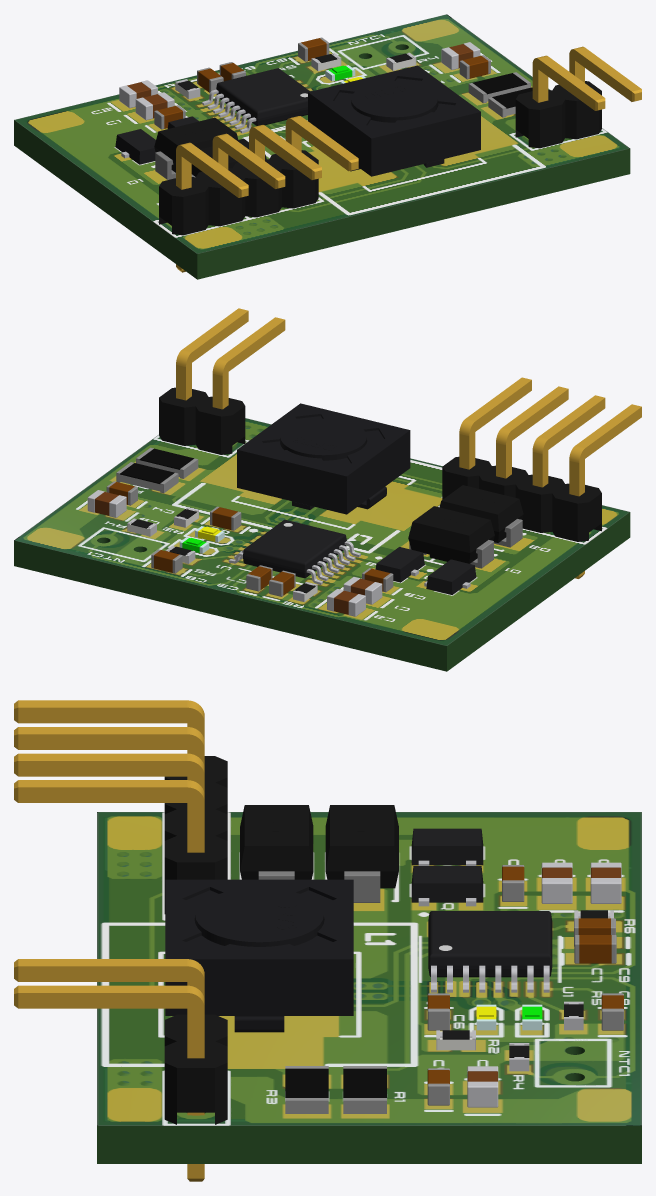
Rendered from eml02.glb.
The picture shows the model from 3 angles, top to bottom: view 1: azimuth 30°, elevation 25°; view 2: azimuth 150°, elevation 25°; view 3: azimuth 270°, elevation 25°; orthographic projection. The views are drawn at different scales.
Visible parts, largest first — view 1: Board:Open CASCADE STEP translator 7.5 1.1.1, L1:Cooper Bussman DR73 Series Inductor, J1:PLS-1R (×2), J2:PLS-1R (×2), J3:PLS-1R (×2), U1:, D1:Littelfuse SMAJ6.0A1, Q1:, R1:Mark, D1:Littelfuse SMAJ6.0A 2, C4:Open CASCADE STEP translator 6.8 3.2.1; view 2: Board:Open CASCADE STEP translator 7.5 1.1.1, L1:Cooper Bussman DR73 Series Inductor, J2:PLS-1R (×2), J1:PLS-1R (×2), J3:PLS-1R (×2), U1:, D1:Littelfuse SMAJ6.0A1, D2:Littelfuse SMAJ6.0A1, Q1:, Q2:, R3:Mark, R1:Mark; view 3: Board:Open CASCADE STEP translator 7.5 1.1.1, L1:Cooper Bussman DR73 Series Inductor, J2:PLS-1R (×2), J3:PLS-1R (×2), J1:PLS-1R (×2), U1:, D1:Littelfuse SMAJ6.0A1, D2:Littelfuse SMAJ6.0A1, Q1:, Q2:, R3:Mark, R1:Mark (+7 smaller).
Boxes of the visible parts, x1=… form: Board:Open CASCADE STEP translator 7.5 1.1.1: x1=14, y1=14, x2=630, y2=279; L1:Cooper Bussman DR73 Series Inductor: x1=308, y1=65, x2=480, y2=176; J1:PLS-1R (×2): x1=159, y1=133, x2=285, y2=272; J2:PLS-1R (×2): x1=515, y1=46, x2=641, y2=148; J3:PLS-1R (×2): x1=232, y1=116, x2=358, y2=217; U1:: x1=216, y1=68, x2=310, y2=125; D1:Littelfuse SMAJ6.0A1: x1=154, y1=117, x2=238, y2=172; Q1:: x1=115, y1=129, x2=155, y2=164; R1:Mark: x1=472, y1=73, x2=527, y2=94; D1:Littelfuse SMAJ6.0A 2: x1=155, y1=151, x2=175, y2=179; C4:Open CASCADE STEP translator 6.8 3.2.1: x1=463, y1=56, x2=488, y2=78; Board:Open CASCADE STEP translator 7.5 1.1.1: x1=14, y1=418, x2=630, y2=671; L1:Cooper Bussman DR73 Series Inductor: x1=237, y1=403, x2=410, y2=514; J2:PLS-1R (×2): x1=159, y1=308, x2=285, y2=454; J1:PLS-1R (×2): x1=515, y1=395, x2=641, y2=578; J3:PLS-1R (×2): x1=442, y1=377, x2=568, y2=499; U1:: x1=243, y1=519, x2=346, y2=578; D1:Littelfuse SMAJ6.0A1: x1=408, y1=506, x2=494, y2=563; D2:Littelfuse SMAJ6.0A1: x1=439, y1=485, x2=523, y2=542; Q1:: x1=426, y1=559, x2=476, y2=594; Q2:: x1=375, y1=547, x2=424, y2=582; R3:Mark: x1=139, y1=448, x2=194, y2=469; R1:Mark: x1=120, y1=463, x2=174, y2=483; Board:Open CASCADE STEP translator 7.5 1.1.1: x1=97, y1=812, x2=641, y2=1163; L1:Cooper Bussman DR73 Series Inductor: x1=165, y1=879, x2=353, y2=1032; J2:PLS-1R (×2): x1=14, y1=959, x2=227, y2=1181; J3:PLS-1R (×2): x1=14, y1=753, x2=227, y2=913; J1:PLS-1R (×2): x1=14, y1=700, x2=227, y2=814; U1:: x1=428, y1=911, x2=552, y2=977; D1:Littelfuse SMAJ6.0A1: x1=325, y1=805, x2=398, y2=888; D2:Littelfuse SMAJ6.0A1: x1=240, y1=805, x2=313, y2=879; Q1:: x1=411, y1=828, x2=483, y2=865; Q2:: x1=411, y1=866, x2=483, y2=902; R3:Mark: x1=285, y1=1068, x2=328, y2=1097; R1:Mark: x1=343, y1=1068, x2=386, y2=1097.
Size of the model in its own units: 0.03 by 0.00845 by 0.0253.
Materials: 22 (1 with a texture image).
